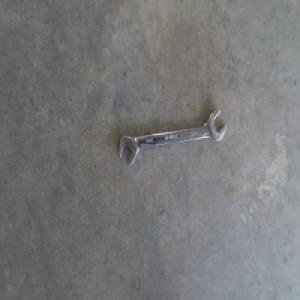Wrench: (119, 108, 225, 165)
